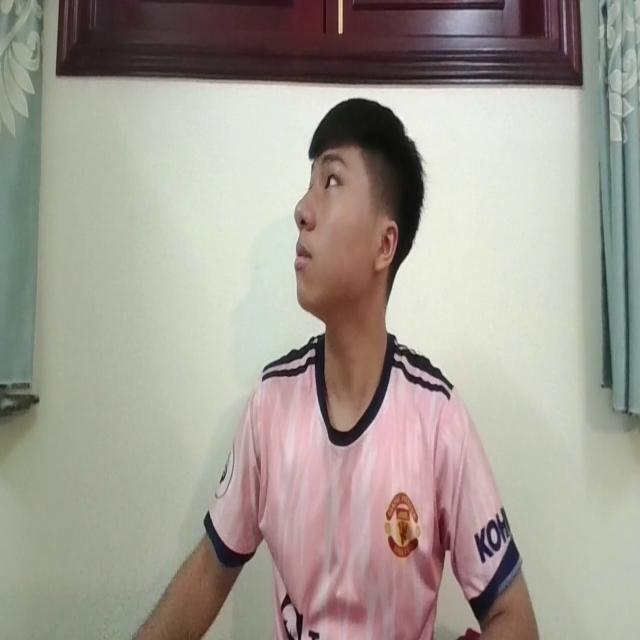student: (110, 92, 540, 640)
